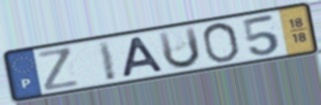5: (241, 12, 283, 58)
A: (121, 35, 167, 79)
I: (96, 38, 119, 83)
O: (200, 21, 242, 65)
U: (156, 24, 203, 71)
Z: (35, 45, 82, 93)
